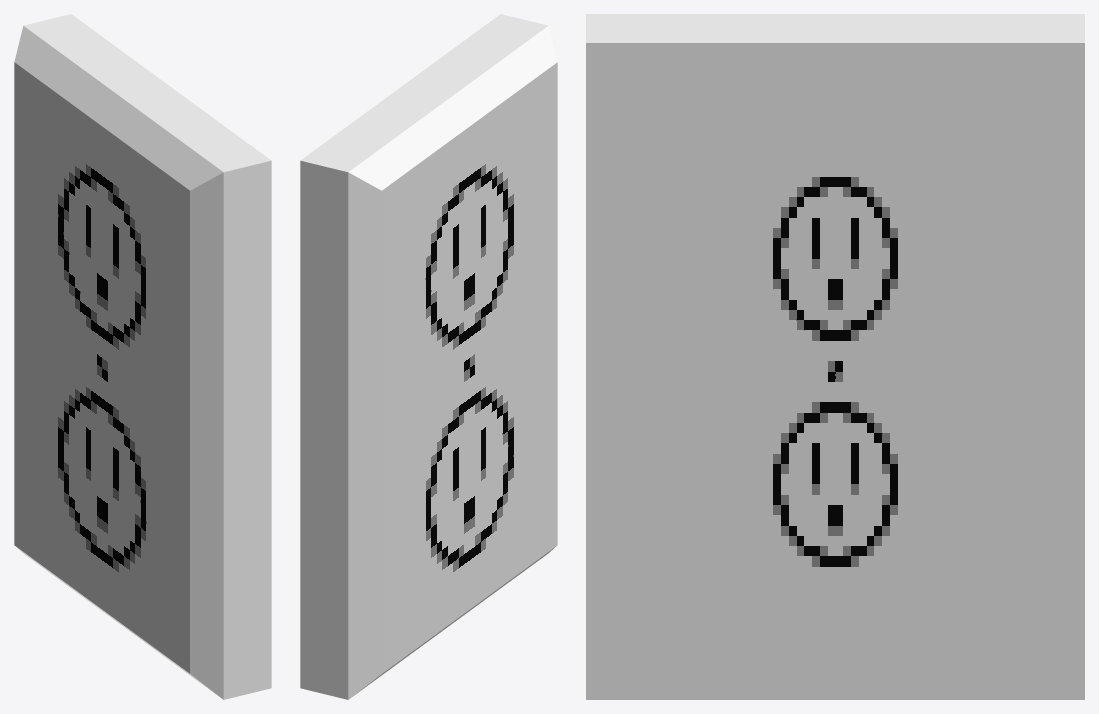
File: socket.glb
3 renders of one model, left to right at view 1: azimuth 30°, elevation 25°; view 2: azimuth 150°, elevation 25°; view 3: azimuth 270°, elevation 25°, orthographic. The views are drawn at different scales.
Visible parts, largest first — view 1: socket; view 2: socket; view 3: socket.
Part boxes in pixels (left/top/right/bottom): socket: left=14, top=14, right=271, bottom=699; socket: left=300, top=14, right=557, bottom=699; socket: left=586, top=14, right=1084, bottom=699.
Bounding box in the file's own units: 0.0254 × 0.1851 × 0.1274.
Materials: 1 (1 with a texture image).
